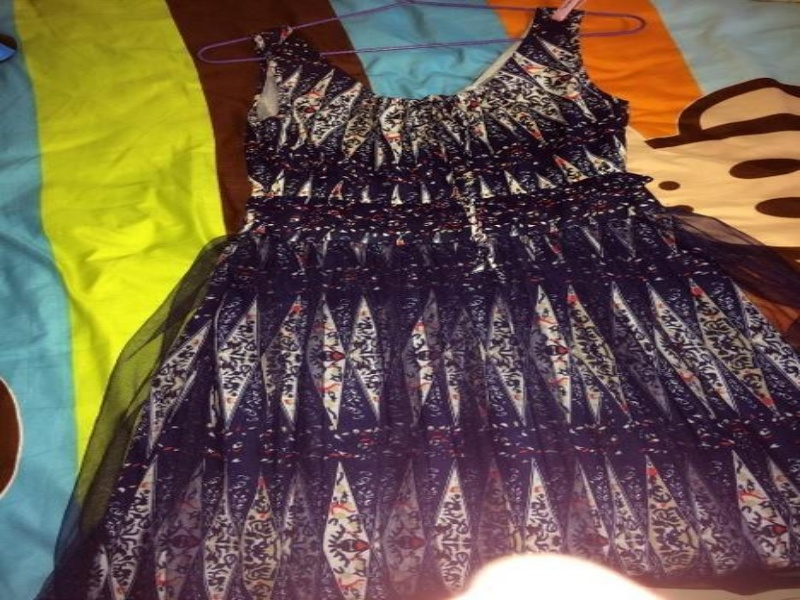vest_dress: (36, 1, 798, 599)
